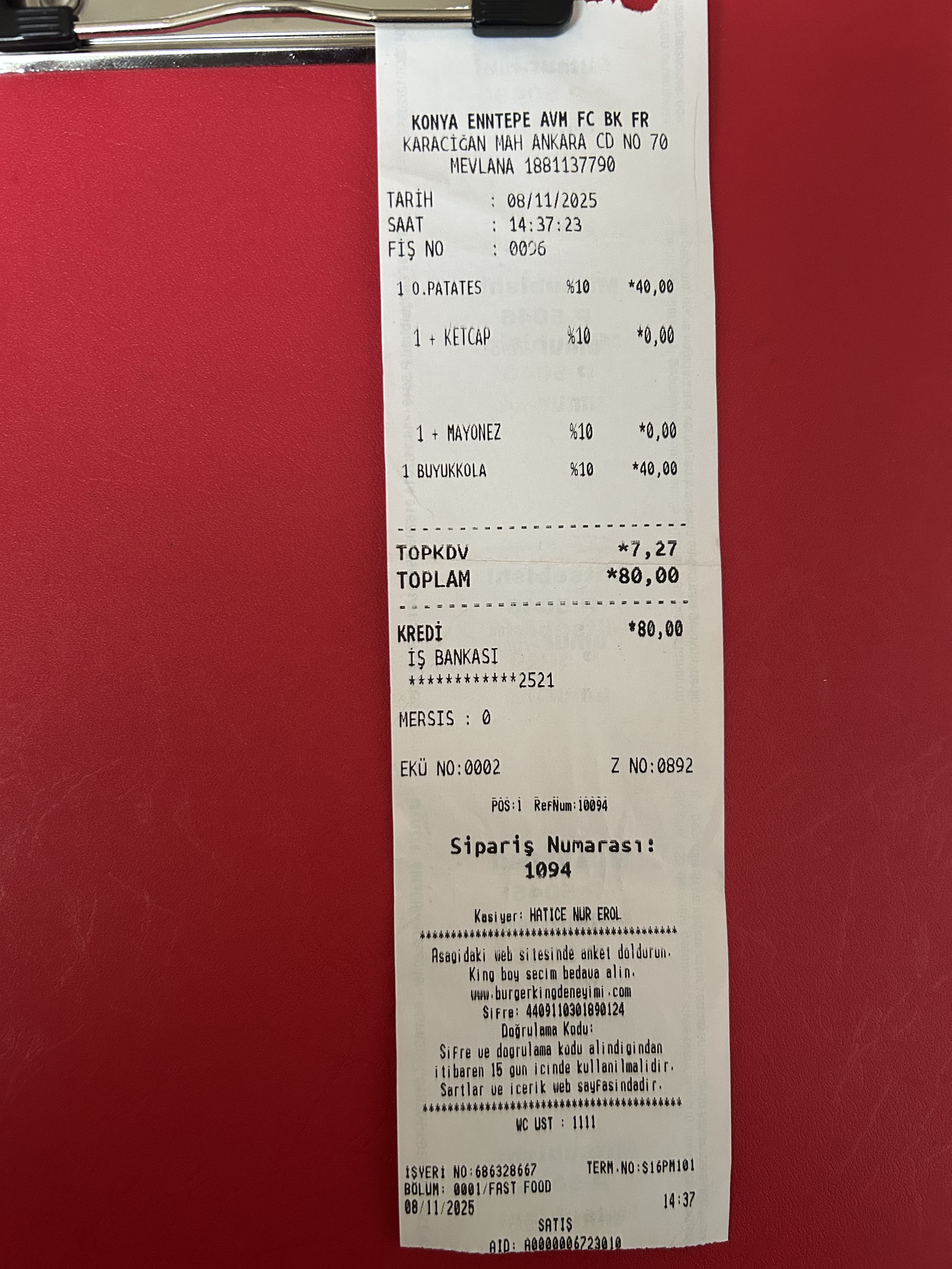date: (616, 559, 686, 589)
price: (501, 187, 602, 210)
workplace: (394, 105, 685, 154)
